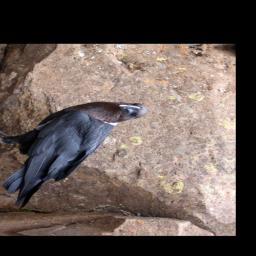Crow: (0, 99, 148, 211)
